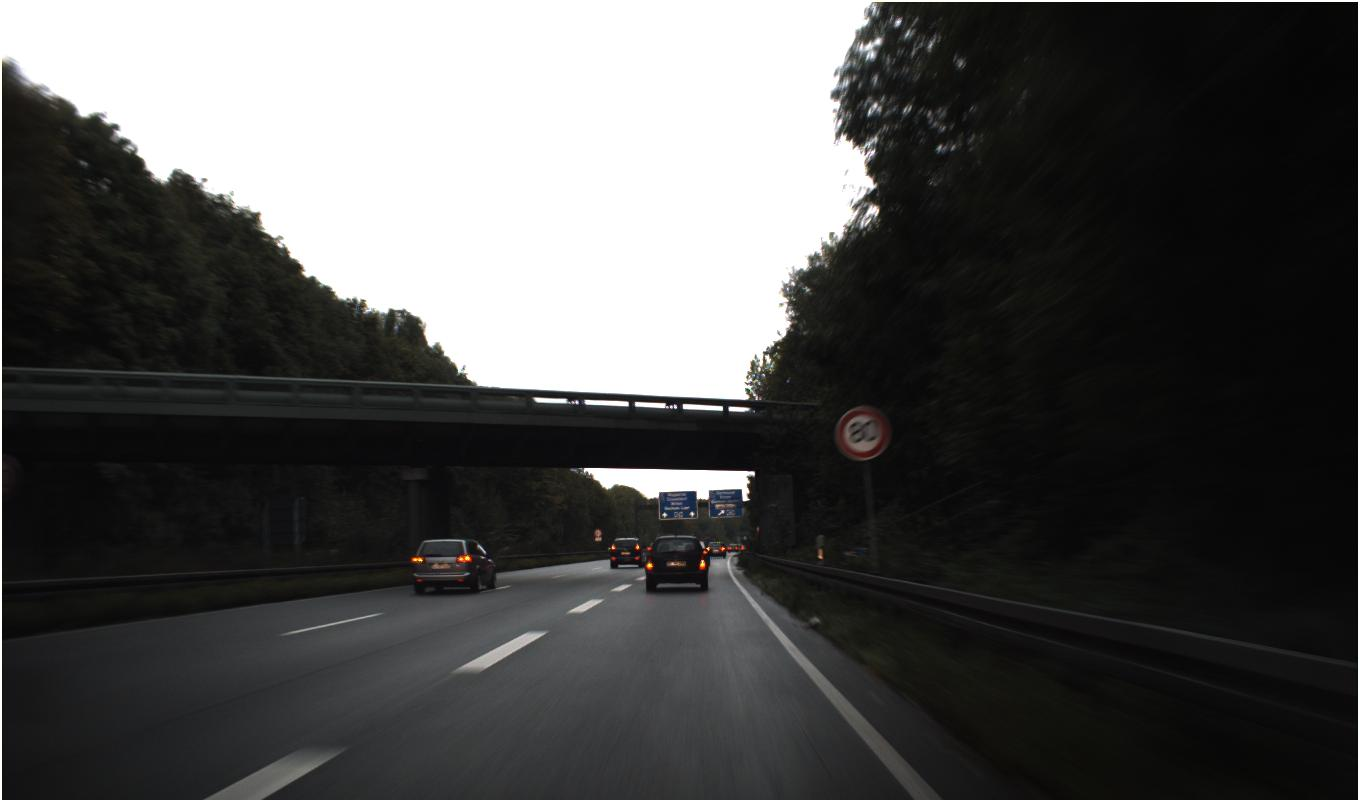prohibitory: (835, 406, 891, 461)
